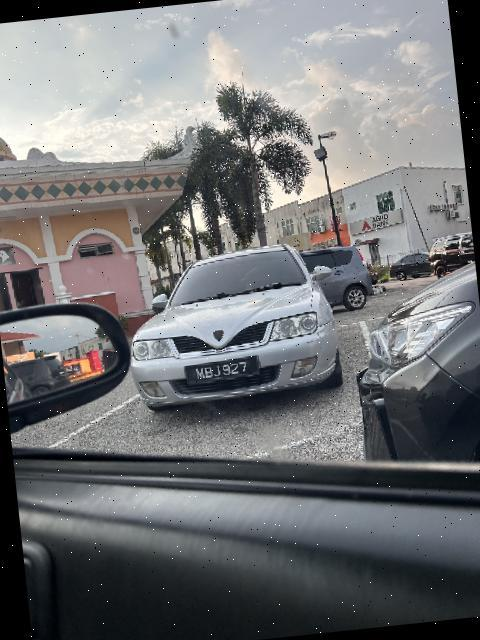License_Plate: (184, 356, 263, 389)
MBJ927: (184, 356, 263, 389)
car: (117, 236, 352, 418)
